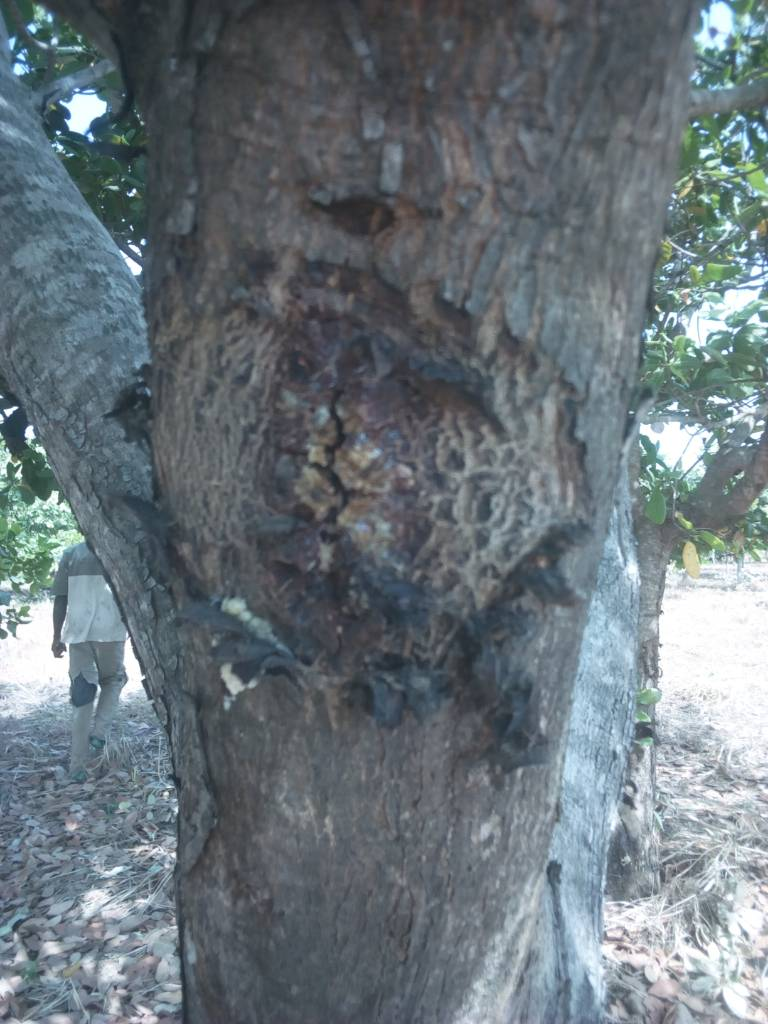ploceadorus ferrugineus: (259, 239, 632, 785)
